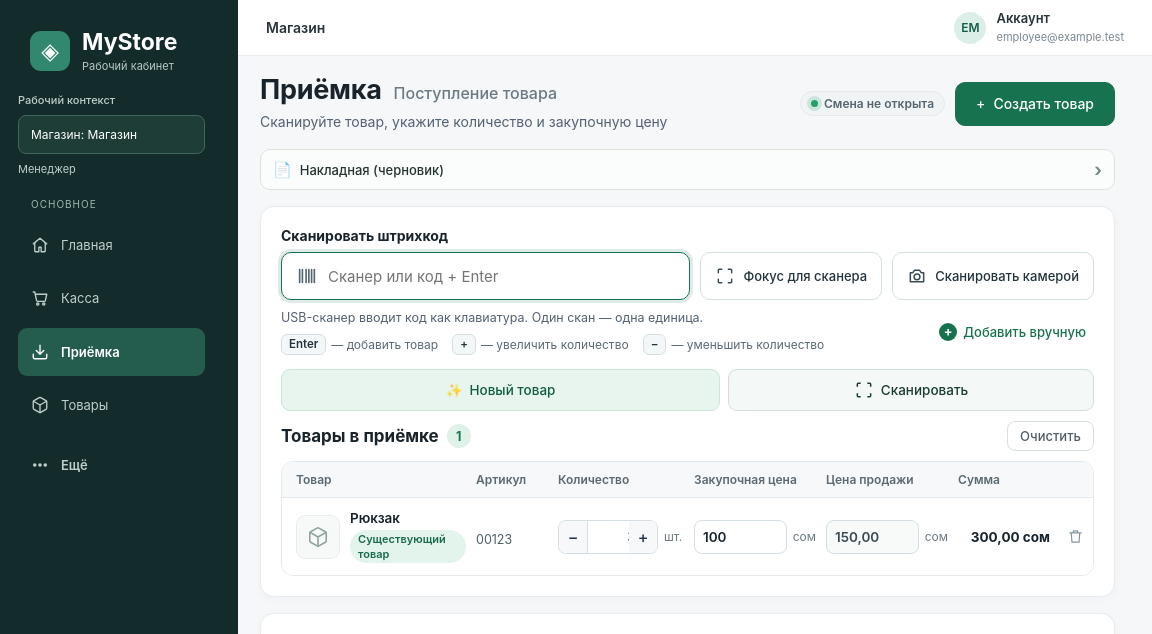
Test: cancelling inline creation leaves the current receipt unchanged
Type "0009876543210" into the field labelled "Сканировать штрихкод" at (502, 276), box [328,257,675,296]
Then press Enter
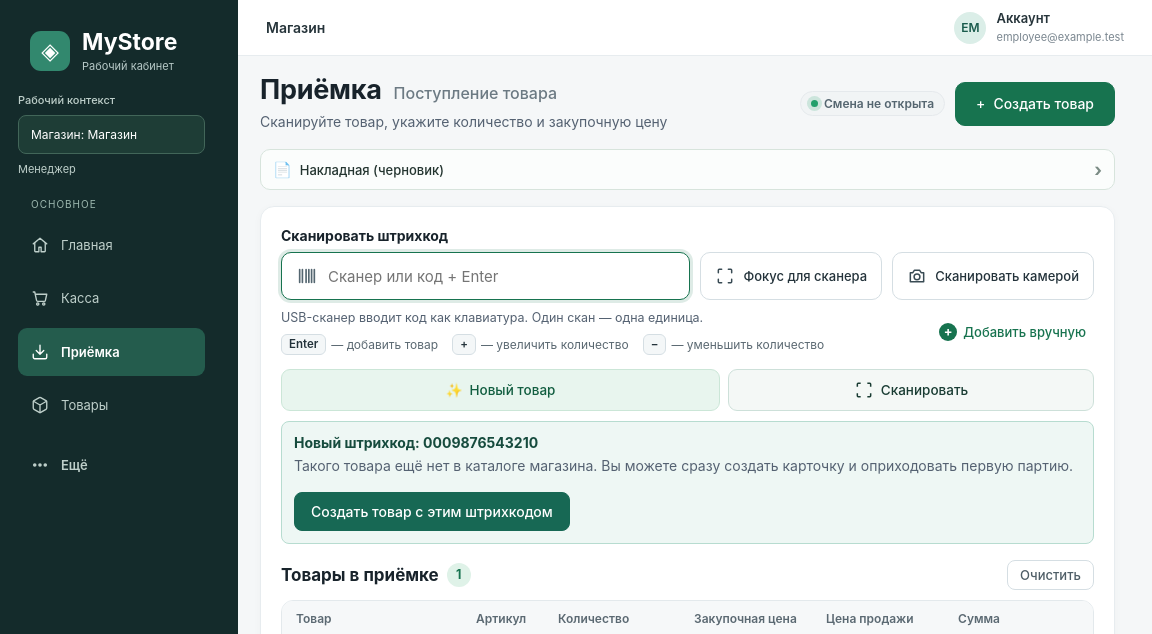
Click the button "Создать товар с этим штрихкодом" at (432, 511), box [294,492,570,531]
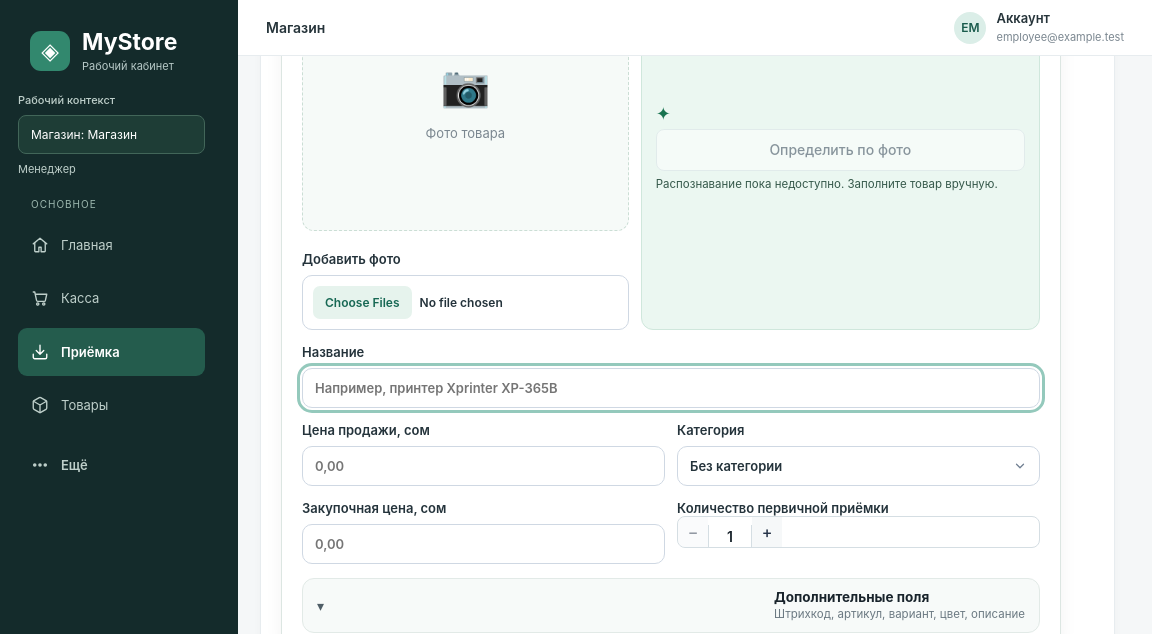
Type "Не сохранять" into the field labelled "Название" at (671, 388), box [302,368,1040,408]
(page scrolled)
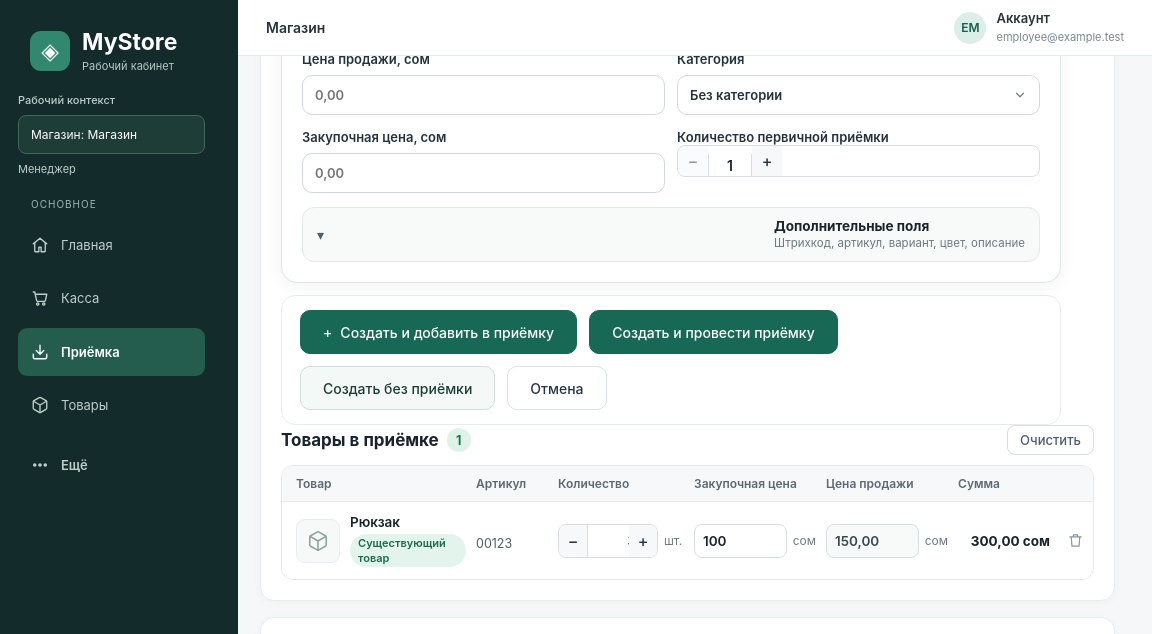
Click the button "Отмена" at (557, 388), box [507,366,606,410]
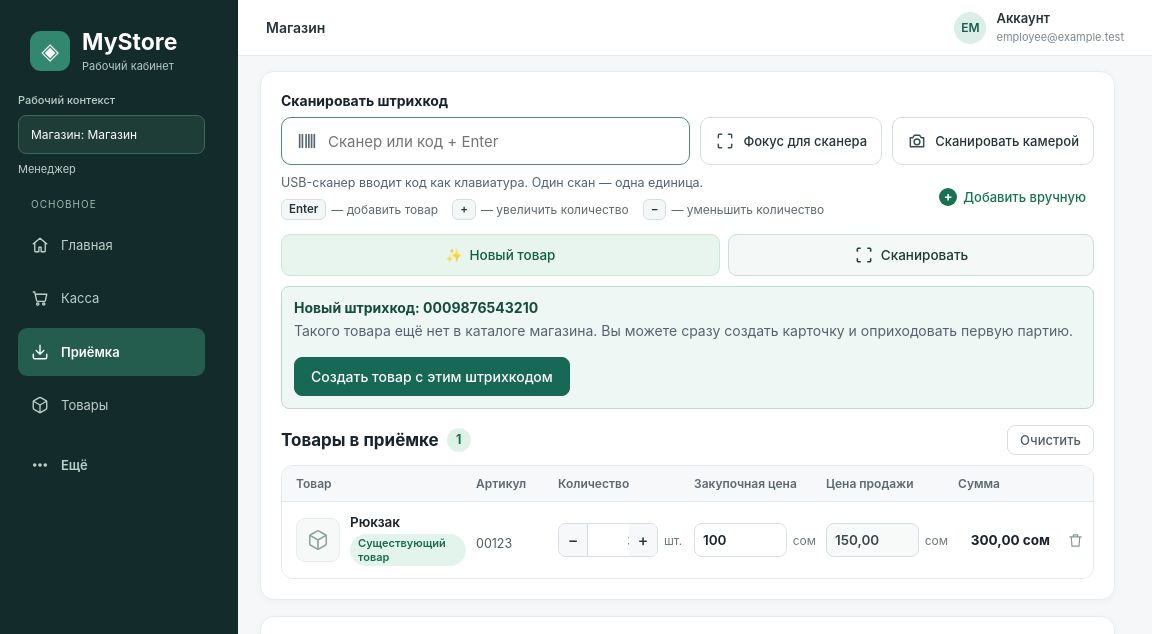
Expected: the field labelled "Сканировать штрихкод" is enabled, [328,122,675,161]
